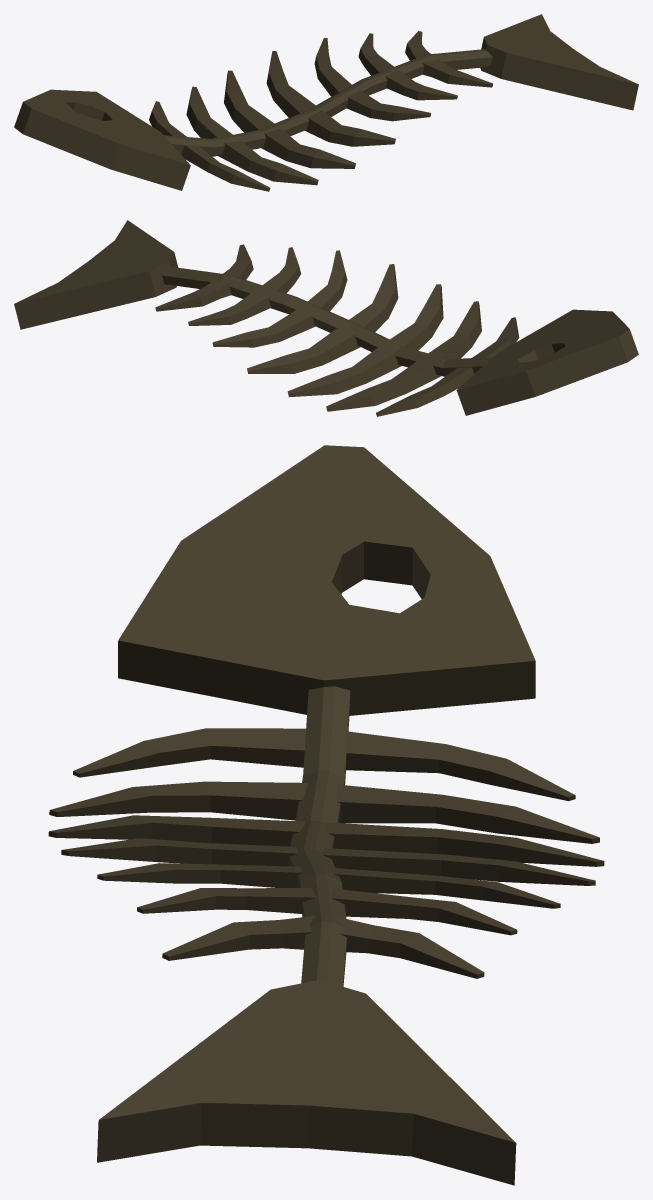
Rendered from FishBone.obj.
3 views of the same model, one above another, from view 1: azimuth 30°, elevation 25°; view 2: azimuth 150°, elevation 25°; view 3: azimuth 270°, elevation 25° (orthographic). The views are drawn at different scales.
Parts seen in each view (by area): view 1: FishBone_Cube.049; view 2: FishBone_Cube.049; view 3: FishBone_Cube.049.
Boxes of the visible parts, bbox=[...] form: FishBone_Cube.049: bbox=[14, 14, 638, 191]; FishBone_Cube.049: bbox=[14, 220, 638, 416]; FishBone_Cube.049: bbox=[48, 445, 604, 1185].
Size of the model in its own units: 1.95 by 0.3324 by 0.8296.
